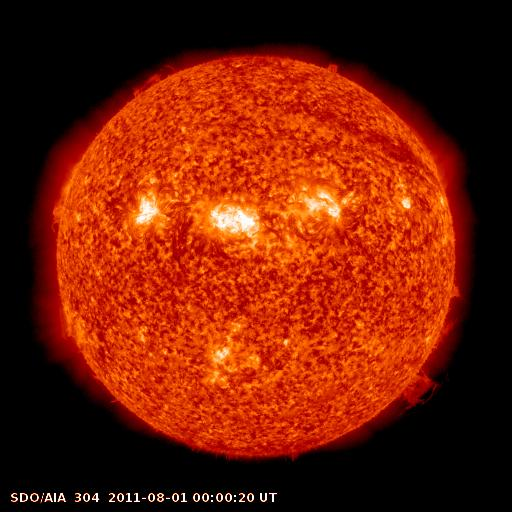prominence: (127, 56, 186, 104), (395, 365, 447, 416), (430, 279, 467, 348), (41, 178, 73, 235), (318, 55, 346, 79)
